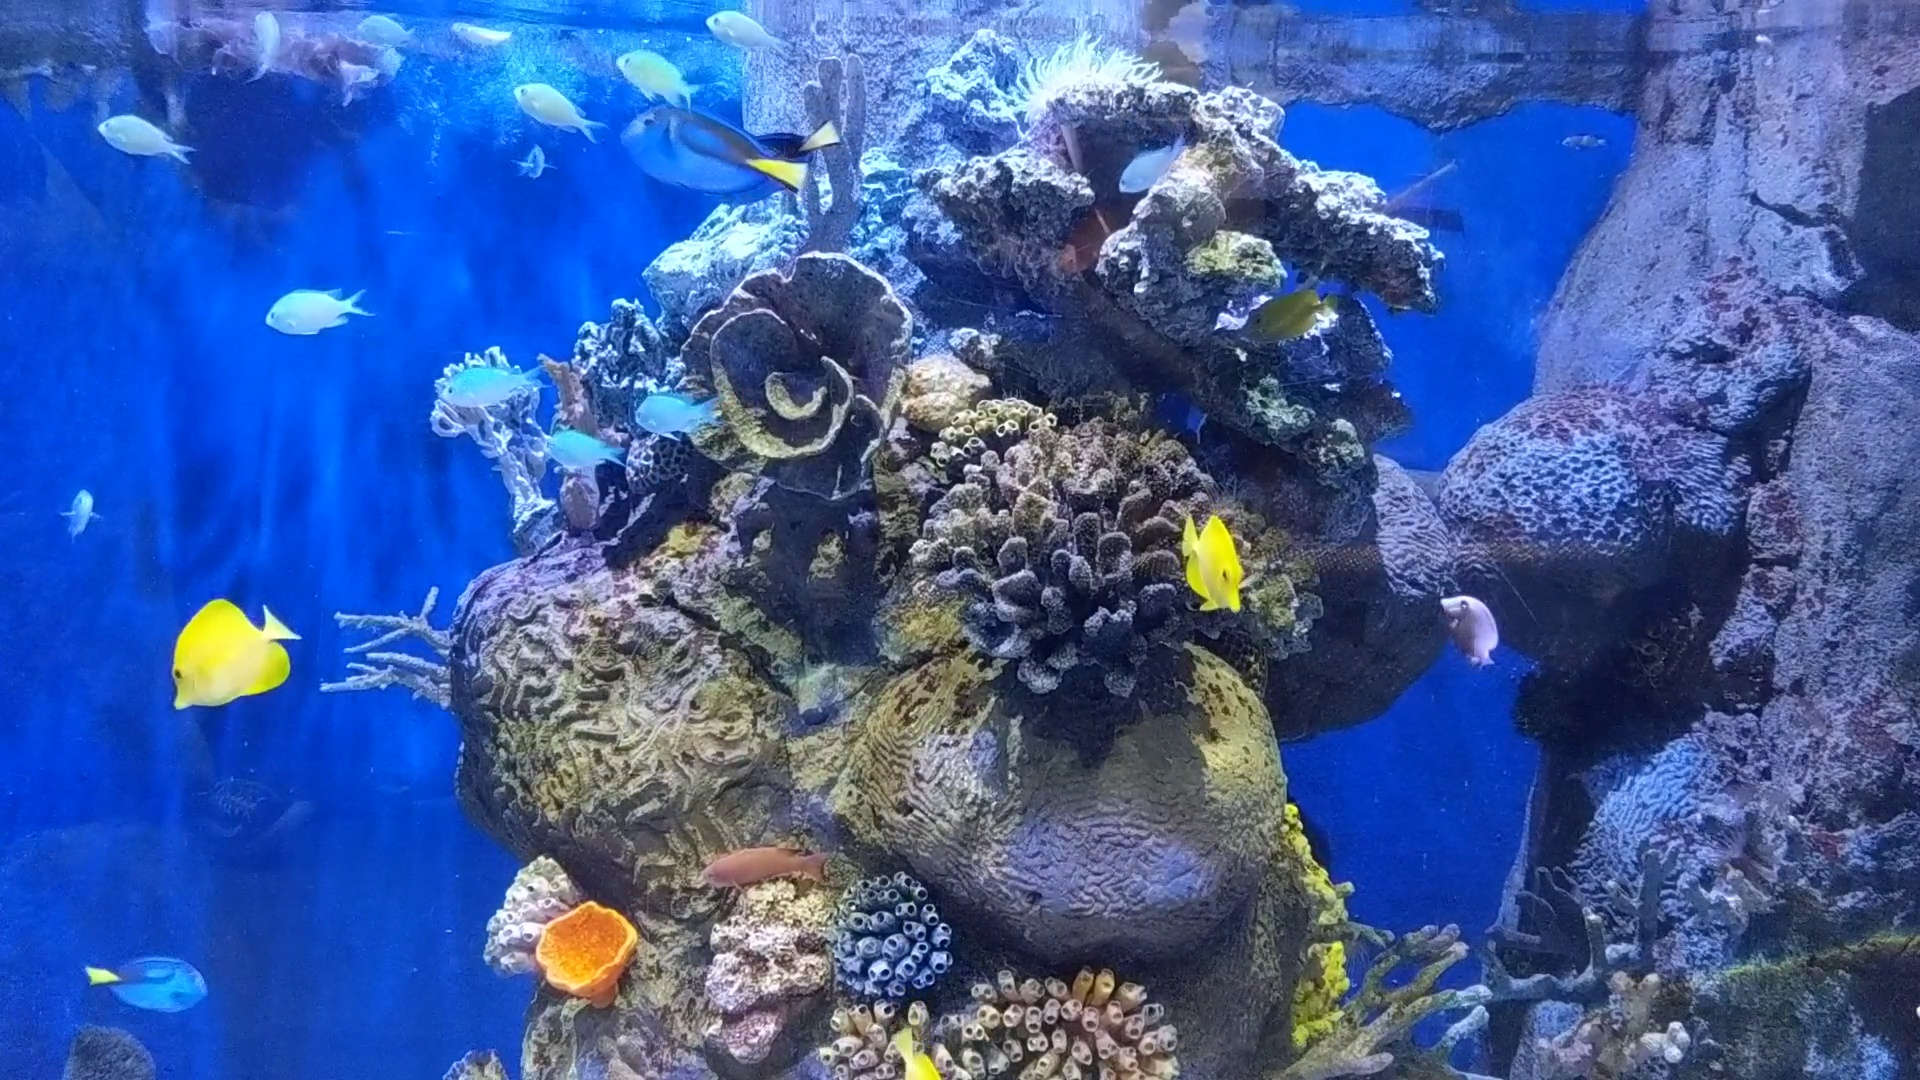blue tang surgeonfish: (604, 94, 814, 204), (75, 943, 212, 1017)
damselfish: (1102, 117, 1209, 203), (76, 95, 202, 165), (433, 352, 553, 425), (506, 69, 608, 153), (699, 1, 795, 83), (622, 380, 729, 446), (535, 422, 632, 491), (600, 37, 699, 103), (270, 280, 364, 340), (51, 484, 91, 538)
pink fish: (1428, 580, 1520, 676)
saddle butterfly fish: (142, 576, 320, 723), (1167, 498, 1255, 622)
